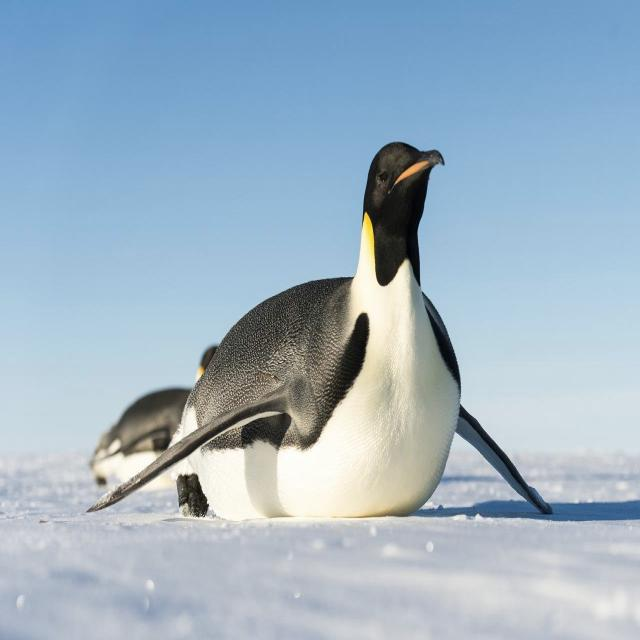penguin: (89, 143, 552, 519)
